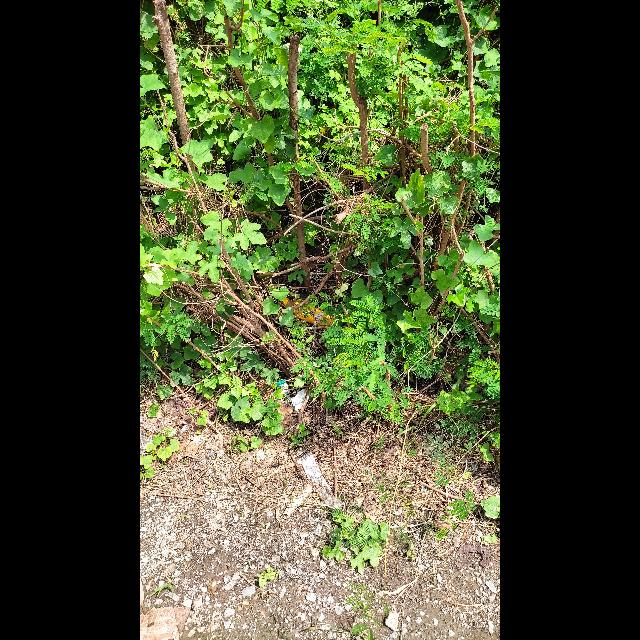plastic_bottle: (280, 296, 342, 330)
plastic_bottle_cap: (280, 297, 290, 307)
scrap_paper: (291, 388, 307, 410)
scrap_plastic: (299, 452, 343, 510), (274, 379, 288, 396)
